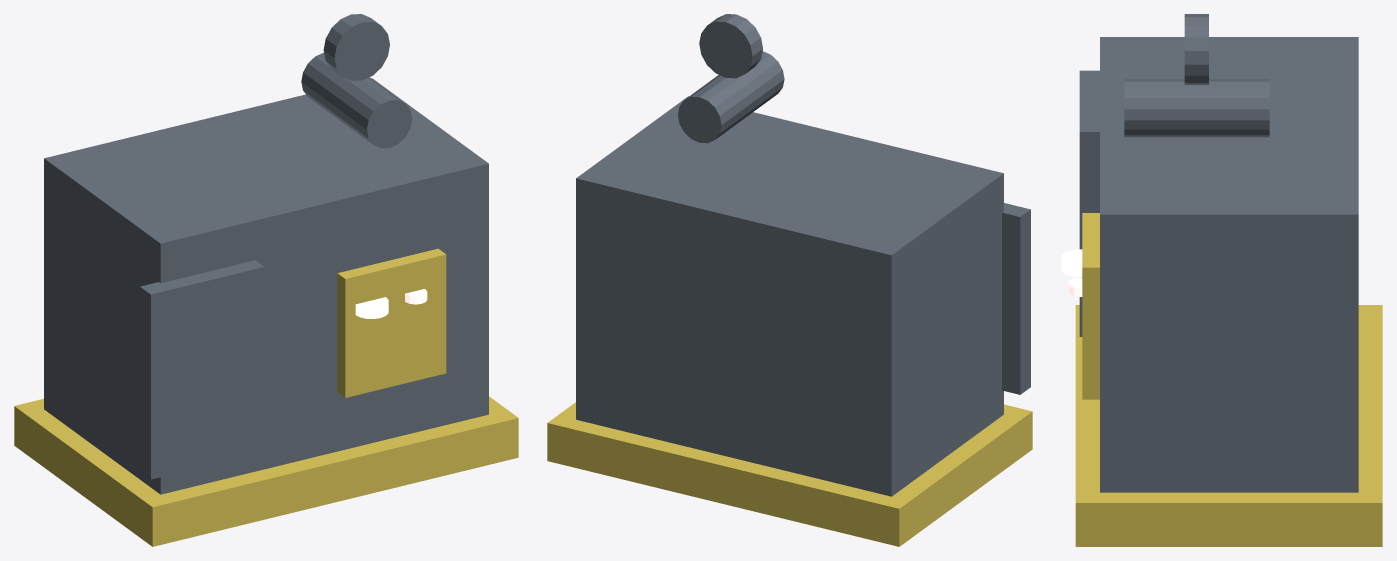
Rendered from prop_bunker_generator.glb.
3 renders of one model, left to right at view 1: azimuth 30°, elevation 25°; view 2: azimuth 150°, elevation 25°; view 3: azimuth 270°, elevation 25°, orthographic. The views are drawn at different scales.
Parts seen in each view (by area): view 1: GeneratorBody, Cube, Cube_001, Cube_002, Cylinder, Cylinder_001, Cylinder_002; view 2: GeneratorBody, Cube, Cube_001, Cylinder, Cylinder_001; view 3: GeneratorBody, Cube, Cylinder, Cube_002, Cube_001, Cylinder_001, Cylinder_002.
Boxes of the visible parts, x1,y1,x2,y2 form: GeneratorBody: [44, 78, 488, 494]; Cube: [14, 396, 518, 546]; Cube_001: [140, 260, 264, 479]; Cube_002: [337, 248, 446, 397]; Cylinder: [301, 52, 412, 148]; Cylinder_001: [323, 14, 389, 80]; Cylinder_002: [355, 297, 388, 318]; GeneratorBody: [576, 96, 1003, 496]; Cube: [547, 402, 1032, 546]; Cube_001: [1002, 203, 1030, 394]; Cylinder: [678, 51, 784, 143]; Cylinder_001: [699, 14, 762, 78]; GeneratorBody: [1100, 37, 1358, 492]; Cube: [1075, 305, 1382, 546]; Cylinder: [1124, 79, 1269, 137]; Cube_002: [1082, 213, 1099, 399]; Cube_001: [1079, 70, 1099, 336]; Cylinder_001: [1184, 14, 1208, 84]; Cylinder_002: [1061, 249, 1082, 277].
Size of the model in its own units: 1.97 by 2.19 by 1.35.
